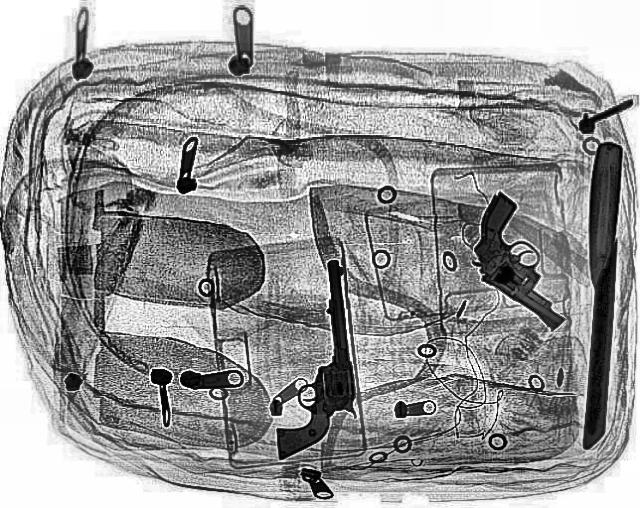Gun: (429, 190, 625, 330), (254, 259, 362, 459)
Knife: (580, 141, 624, 448)
